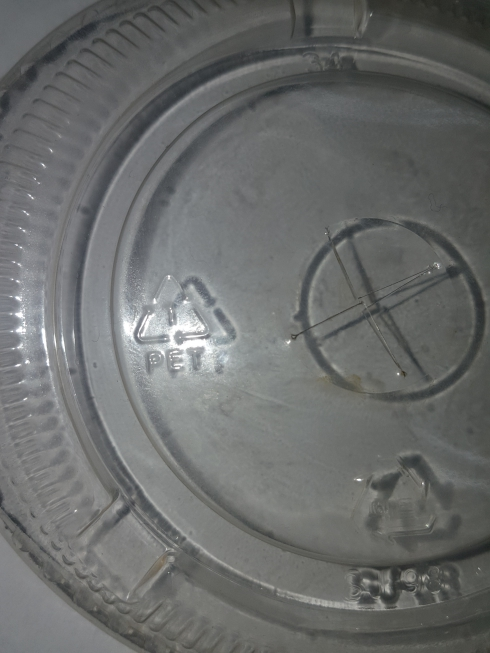recycle: (131, 260, 222, 387)
